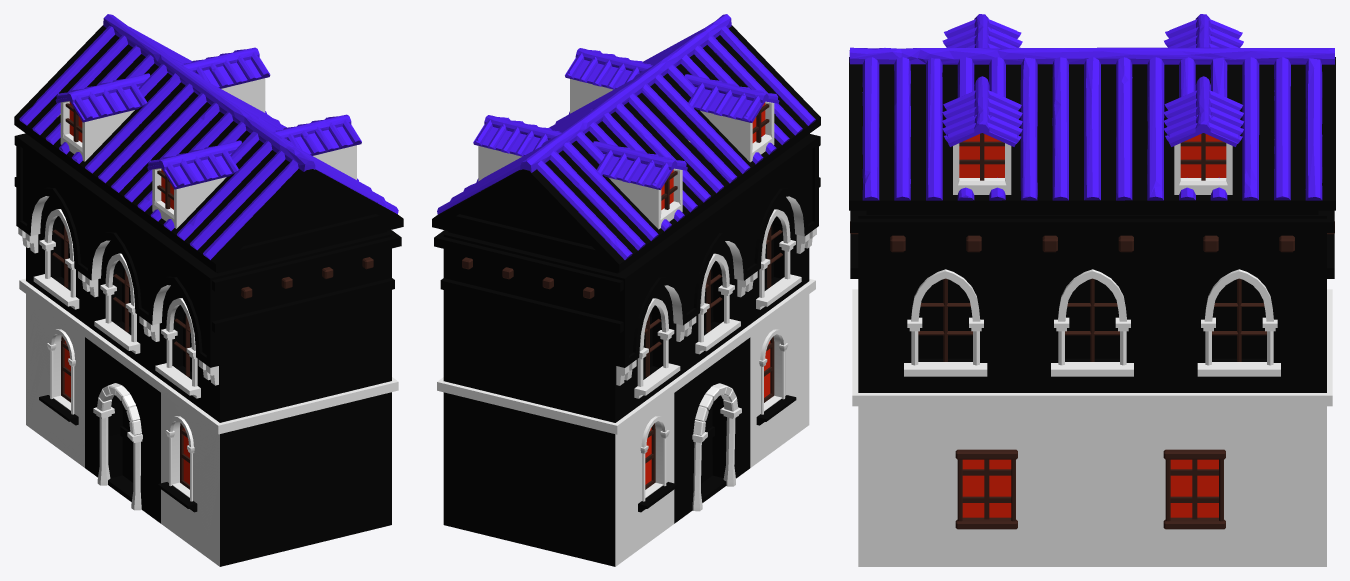
The model's file is civilian_house_38_g.FBX.
3 renders of one model, left to right at view 1: azimuth 30°, elevation 25°; view 2: azimuth 150°, elevation 25°; view 3: azimuth 270°, elevation 25°, orthographic. The views are drawn at different scales.
Visible parts, largest first — view 1: civilian_house_38_g; view 2: civilian_house_38_g; view 3: civilian_house_38_g.
Part boxes in pixels (<box>): civilian_house_38_g: <box>14,14,403,566</box>; civilian_house_38_g: <box>432,14,820,566</box>; civilian_house_38_g: <box>849,14,1335,566</box>.
Size of the model in its own units: 579 by 1103 by 1039.
